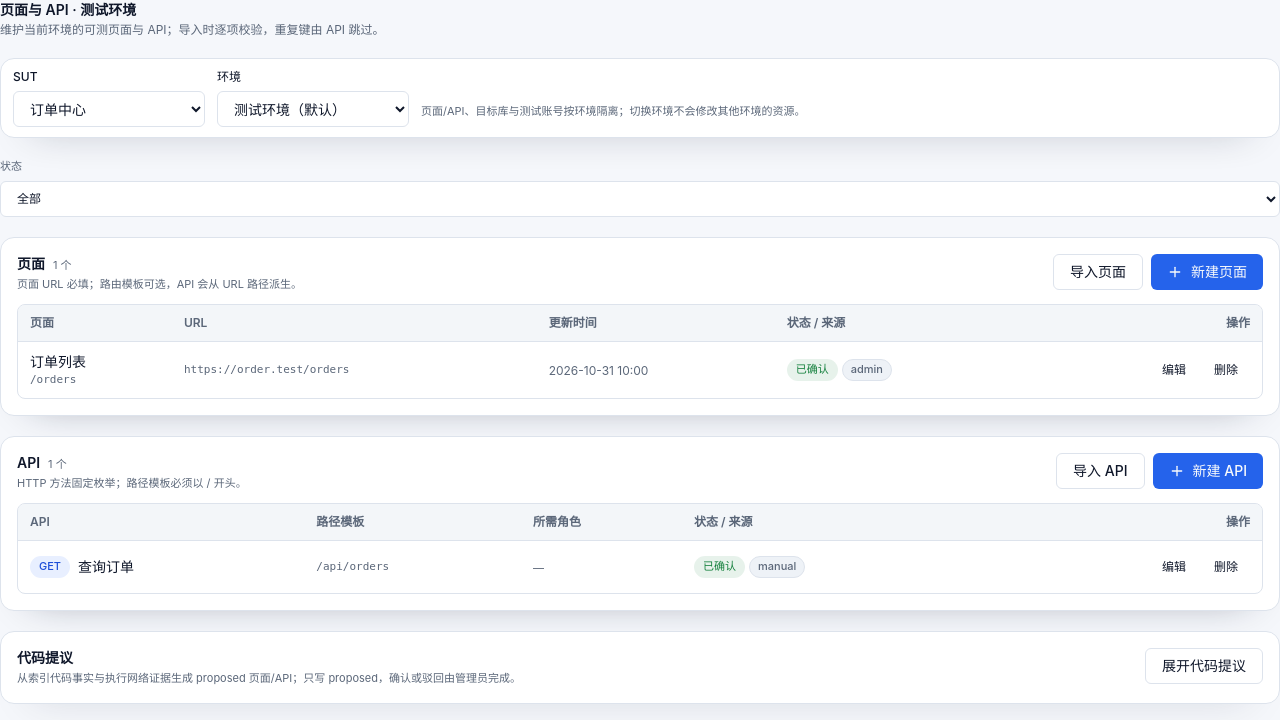
Test: PageAPIPanel › surfaces the API 409 guard when a page cannot be deleted
Click the button with aria-label "删除页面 订单列表".
click(1226, 370)  # box [1202,354,1250,386]
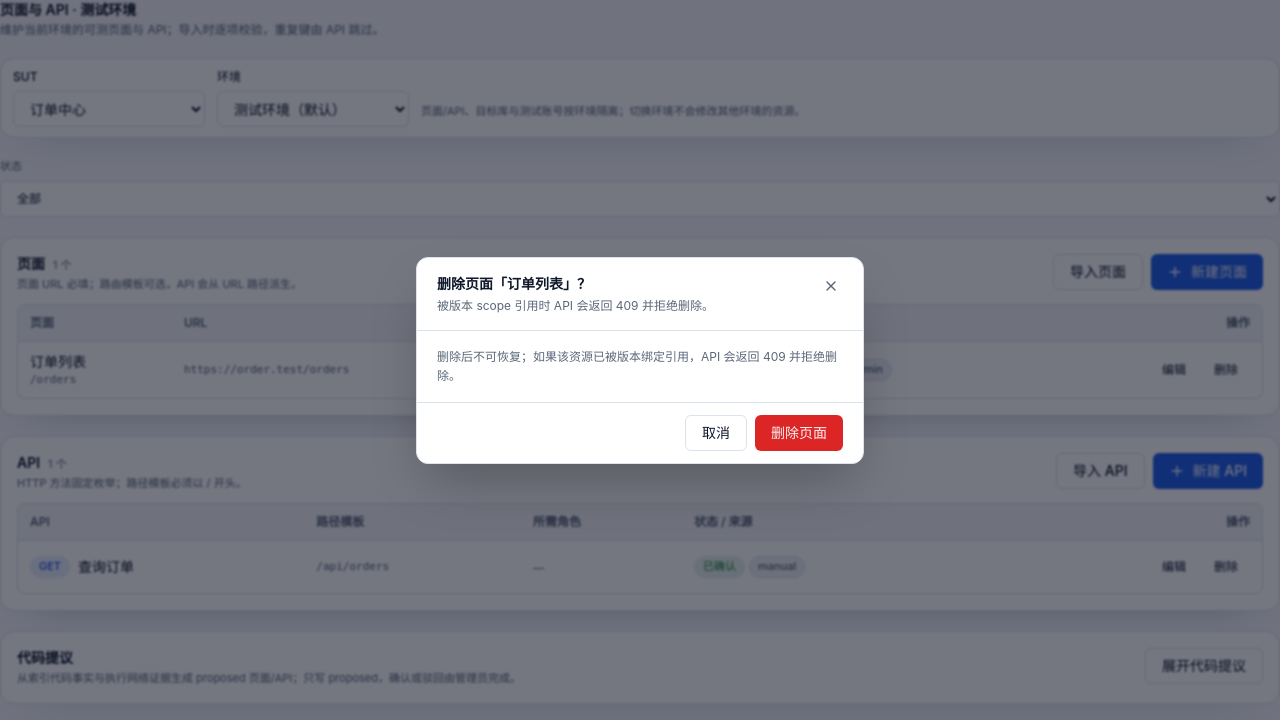
Click the button "删除页面".
click(799, 432)  # box [755,414,843,450]
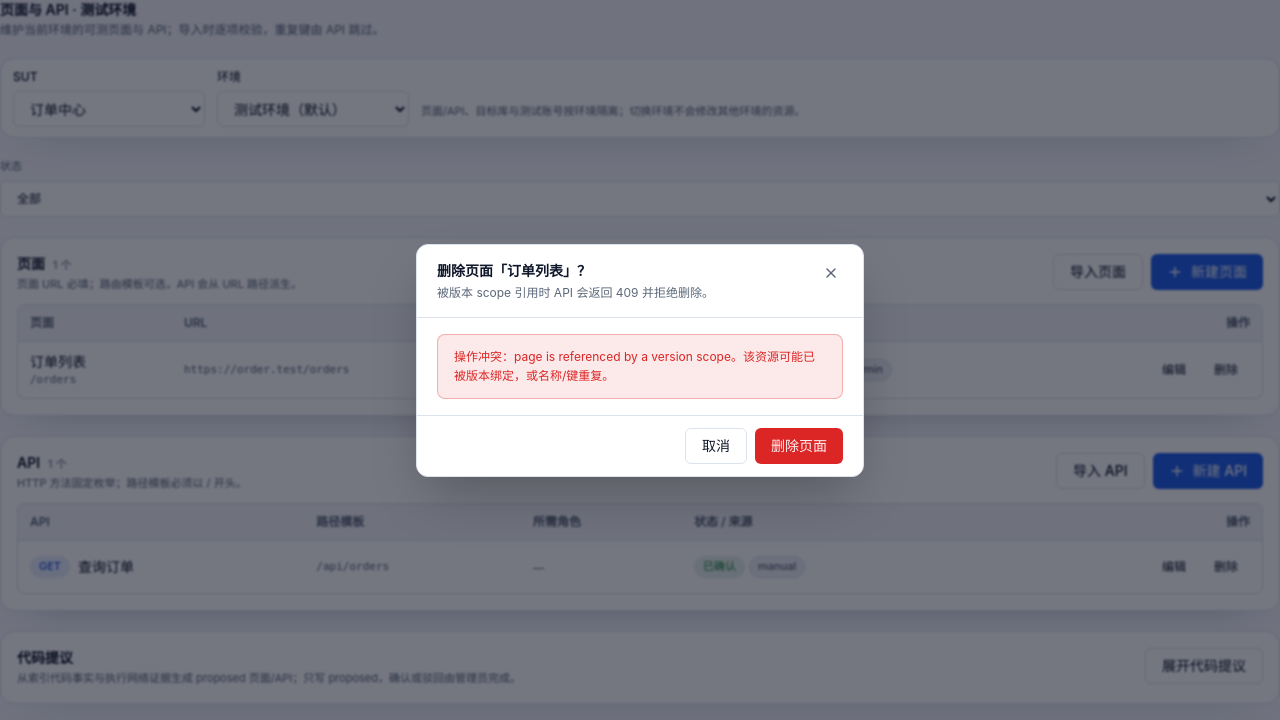
expect the text "操作冲突" is shown: met, box [454,348,815,383]
